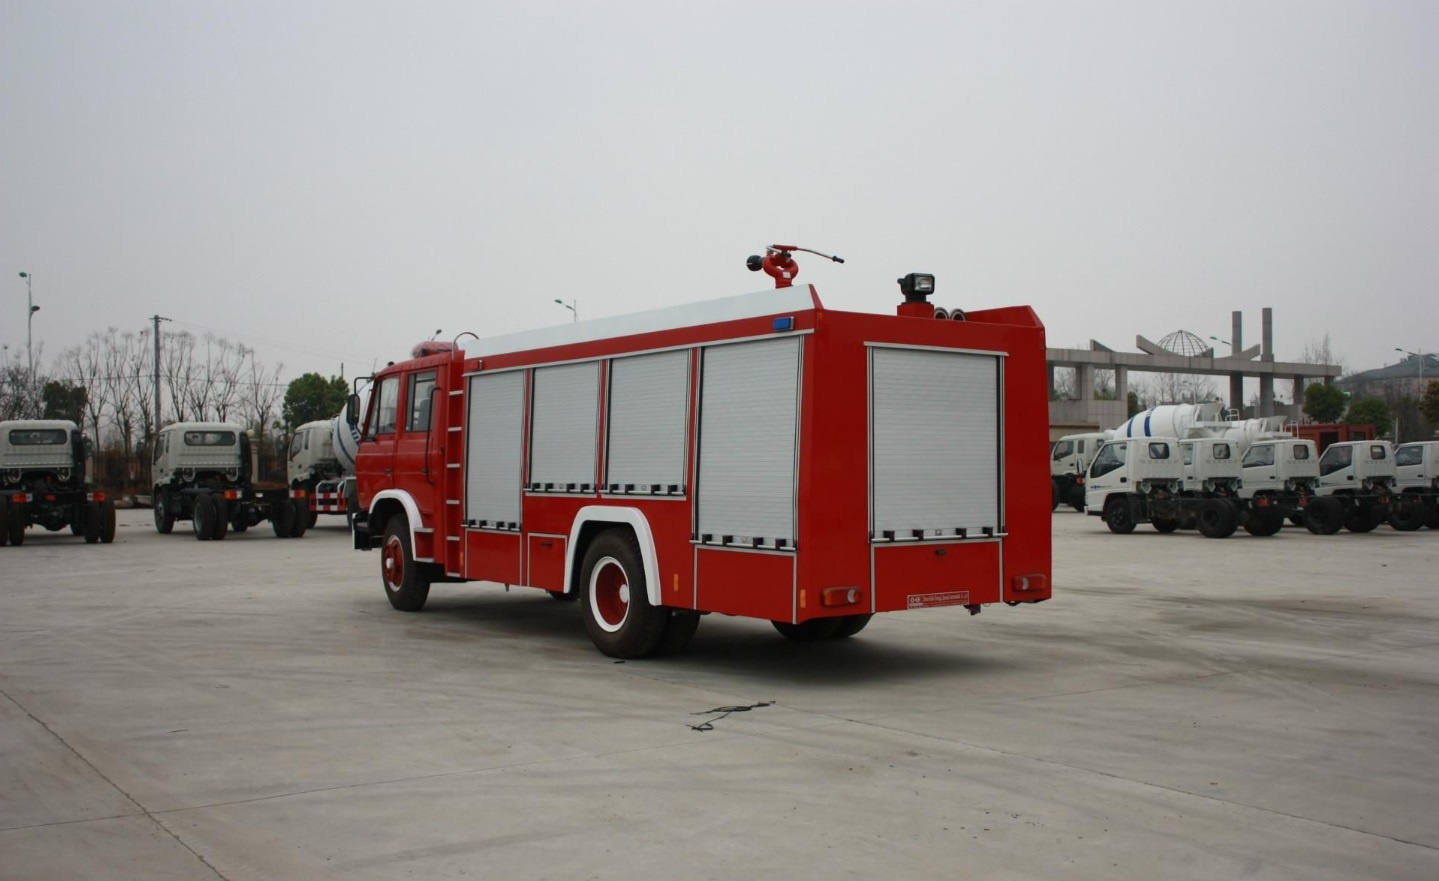fire engine: (324, 288, 1057, 683)
